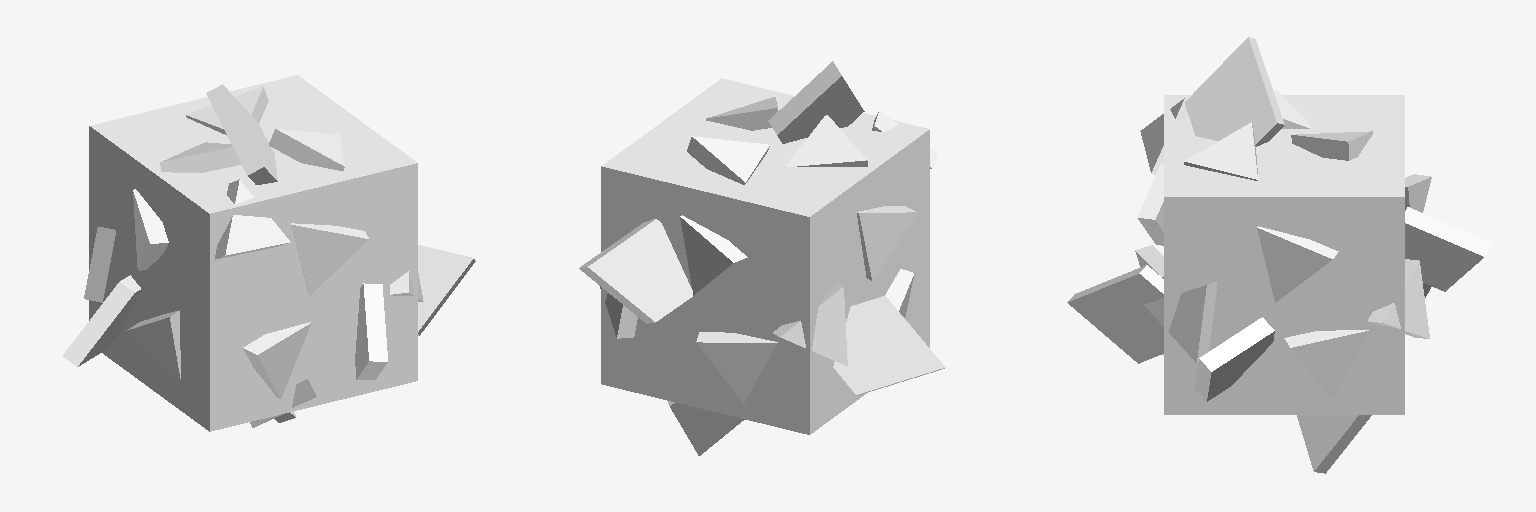
Rendered from qondo_rich.obj.
3 renders of one model, left to right at view 1: azimuth 30°, elevation 25°; view 2: azimuth 150°, elevation 25°; view 3: azimuth 270°, elevation 25°, orthographic.
Visible parts, largest first — view 1: Cube.001, Cube.002; view 2: Cube.001, Cube.002; view 3: Cube.001, Cube.002.
Part boxes in pixels (x1,y1,x2,y2): Cube.001: (89, 75, 417, 431); Cube.002: (63, 84, 475, 427); Cube.001: (601, 78, 929, 434); Cube.002: (579, 61, 945, 455); Cube.001: (1164, 95, 1404, 414); Cube.002: (1067, 37, 1492, 473).
Size of the model in its own units: 1.78 by 1.79 by 1.77.